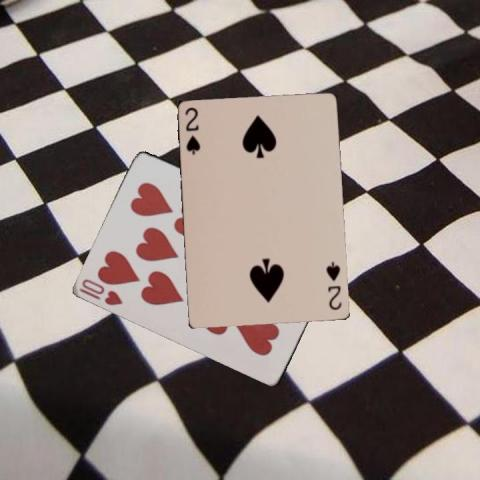10h: (76, 275, 125, 307)
2s: (322, 260, 343, 312), (182, 104, 201, 156)
